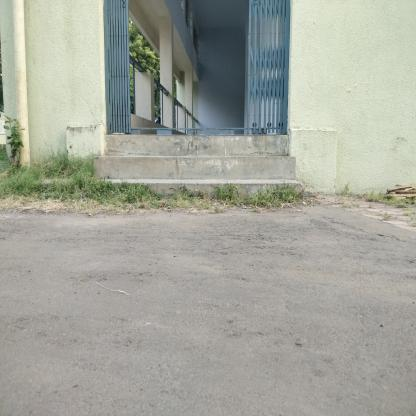stairs: (111, 138, 266, 216)
